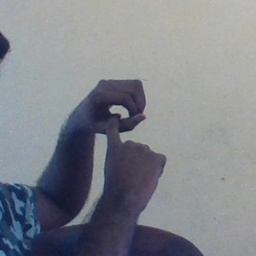Q: (56, 71, 169, 190)
